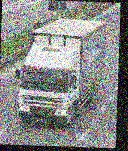truck: (11, 17, 109, 129)
